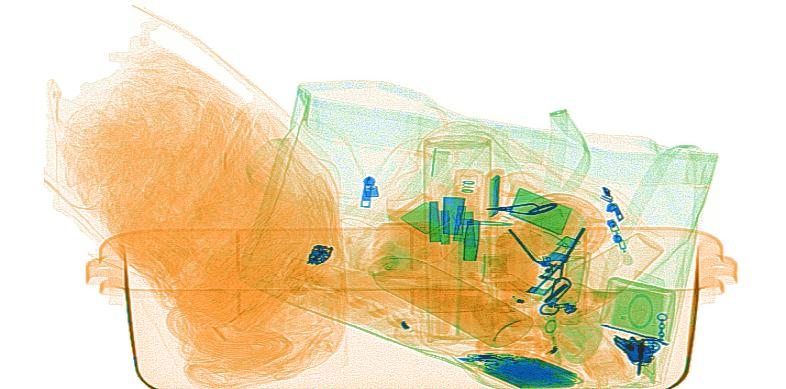lighter: (509, 231, 580, 307)
plasticBottleWithaNozzle: (436, 167, 485, 265)
pressure: (346, 244, 535, 349)
